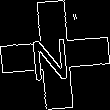N_N: (33, 28, 77, 82)
